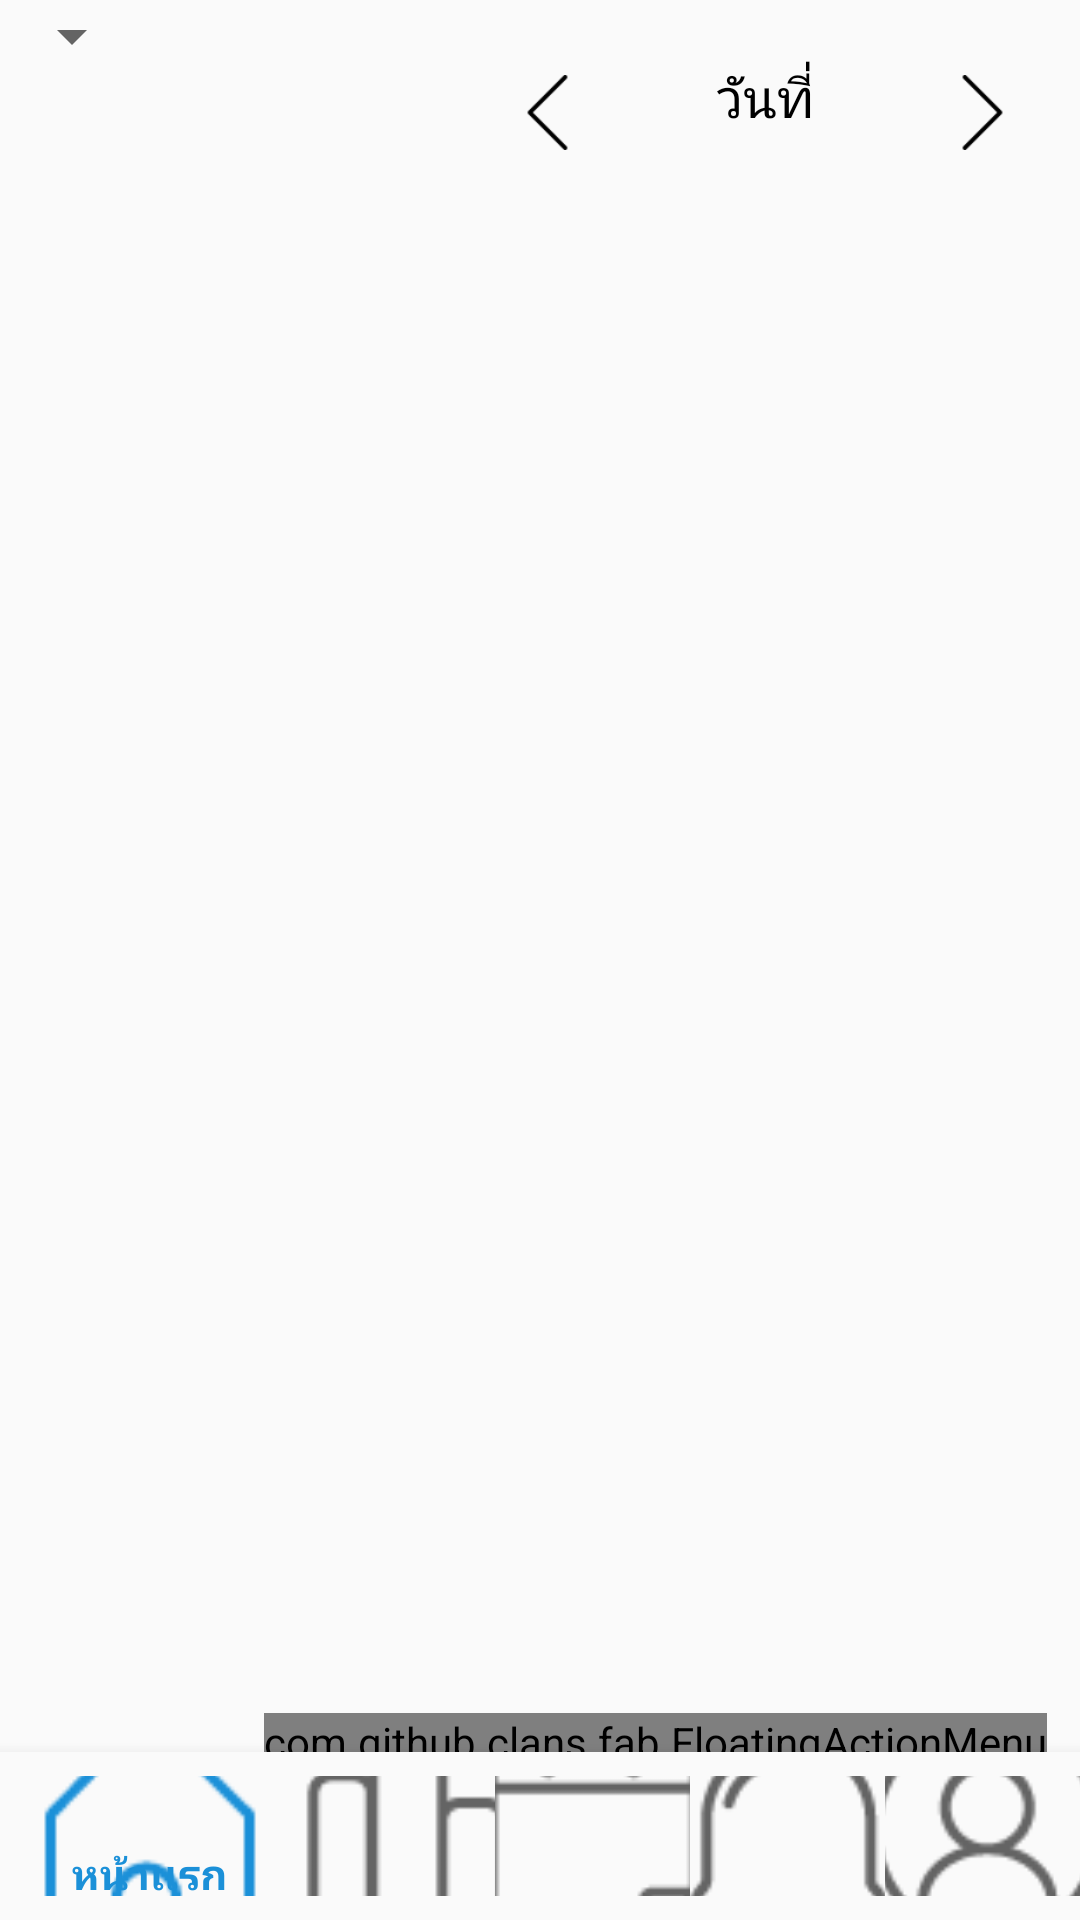

Point at icon controls on the screen. Image size 1080×1920, points as point (x, y).
back: point (547, 112)
next: point (982, 112)
